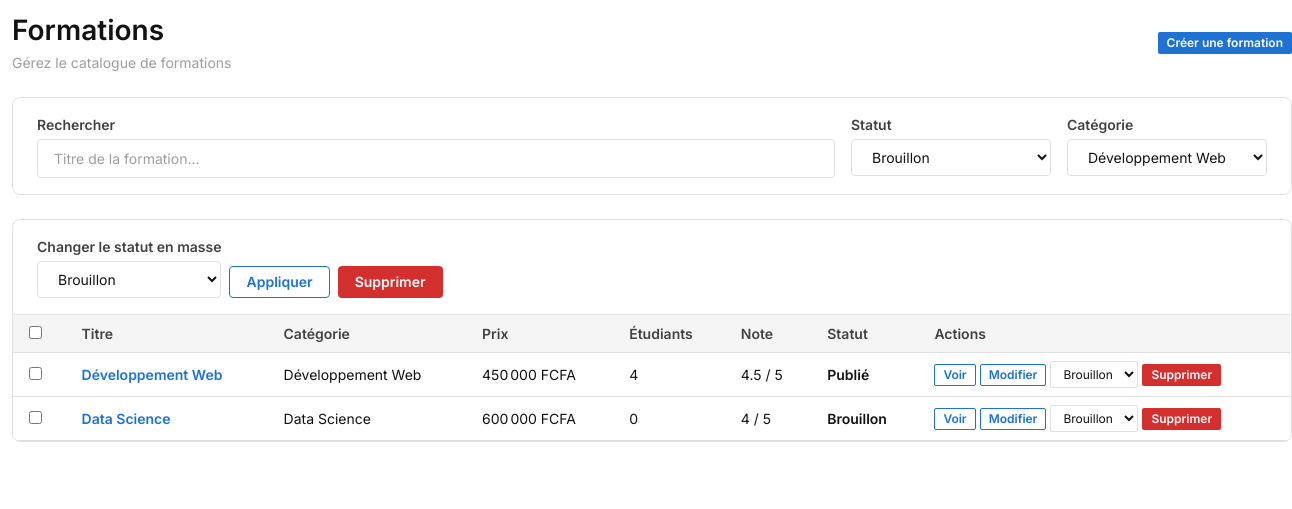
AdminFormationsComponent › should update the status of a formation
The image size is (1292, 509).
Select "Publié" in the dropdown named "Statut de Data Science" at (1094, 419), box 1050,405 -> 1138,432
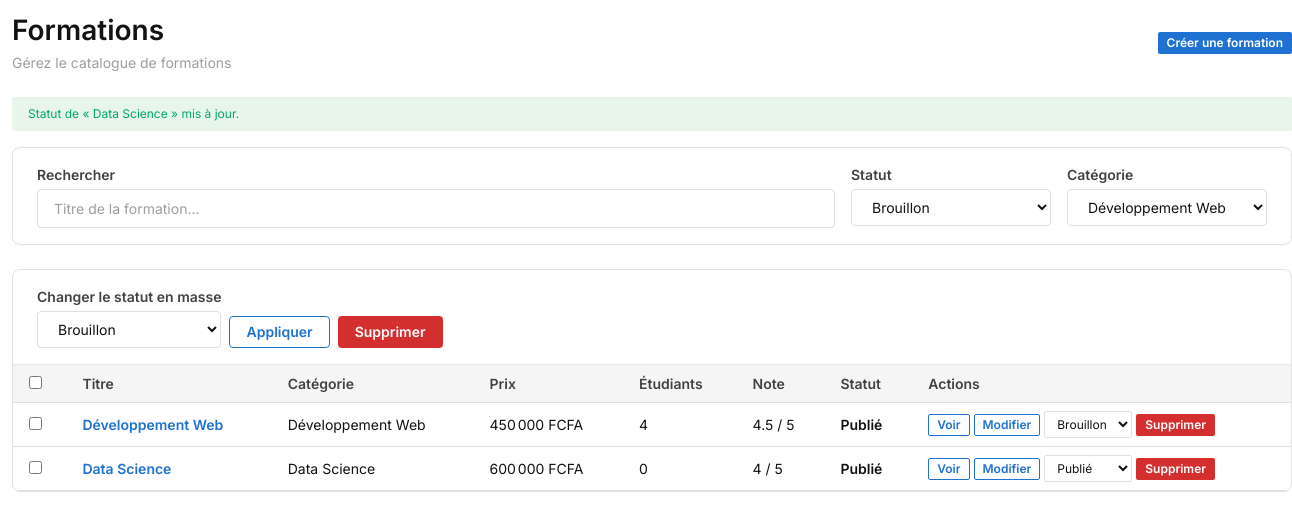
Now the text "Statut de « Data Science » mis à jour." is shown, box 28,106 -> 239,121
